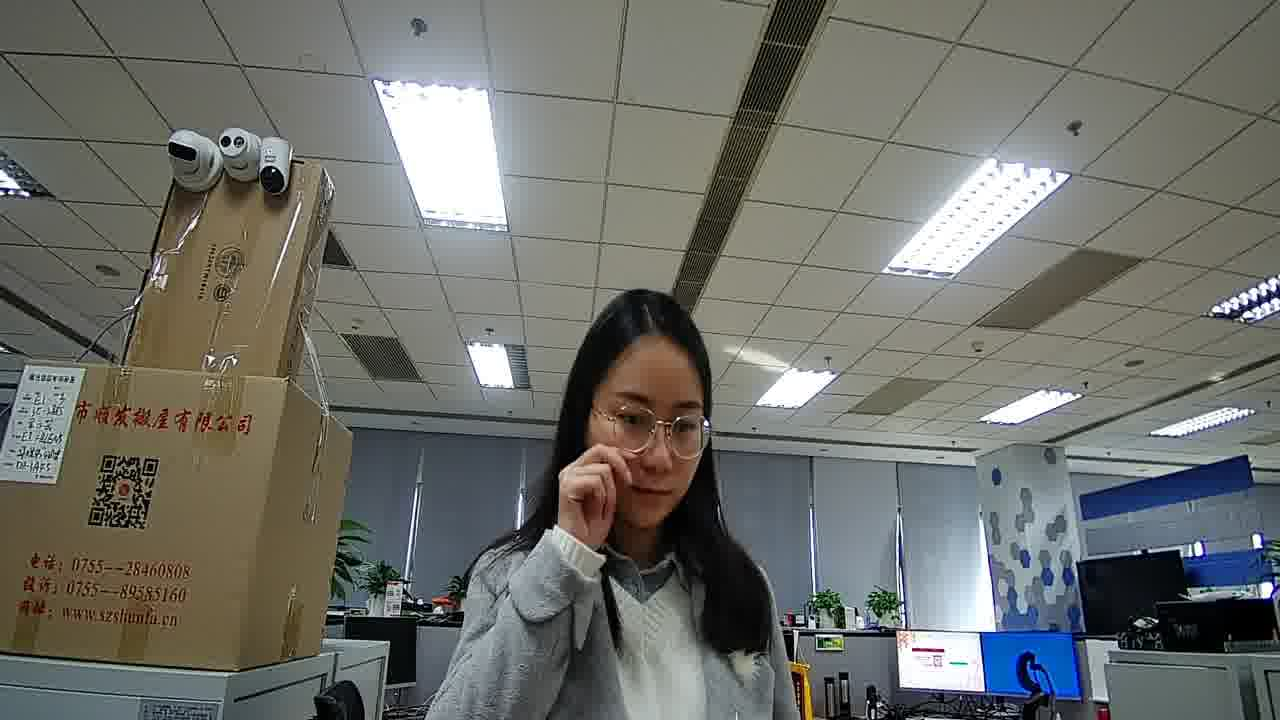face: (583, 345, 713, 537)
person: (458, 288, 776, 657)
